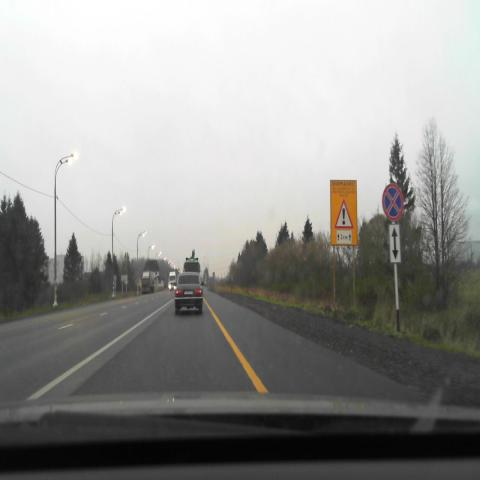1_33: (334, 198, 353, 229)
8_2_4: (389, 225, 401, 262)
